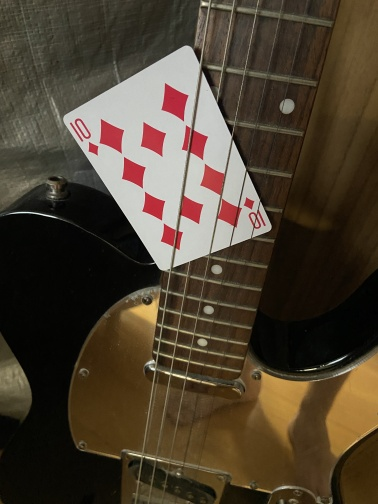ten: (61, 44, 273, 272)
